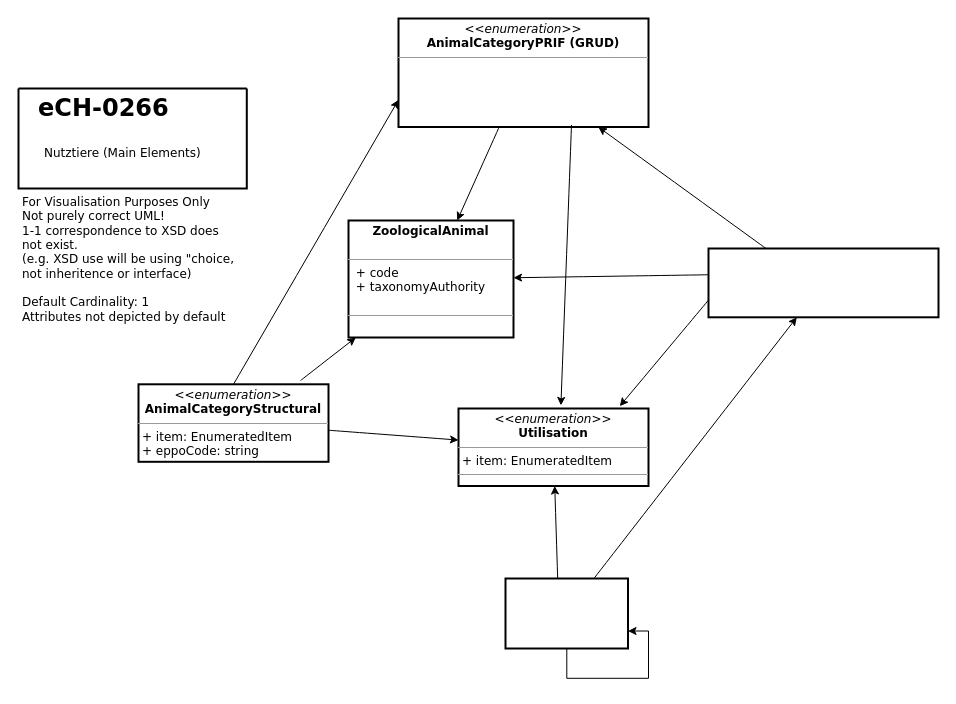
This 956x704 diagram has some shape labels left out. The centre of each missing label's shape, as x and y in pixels:
"AnimalGroup" goes at point 566,613.
"IndividualAnimal" goes at point 823,282.
